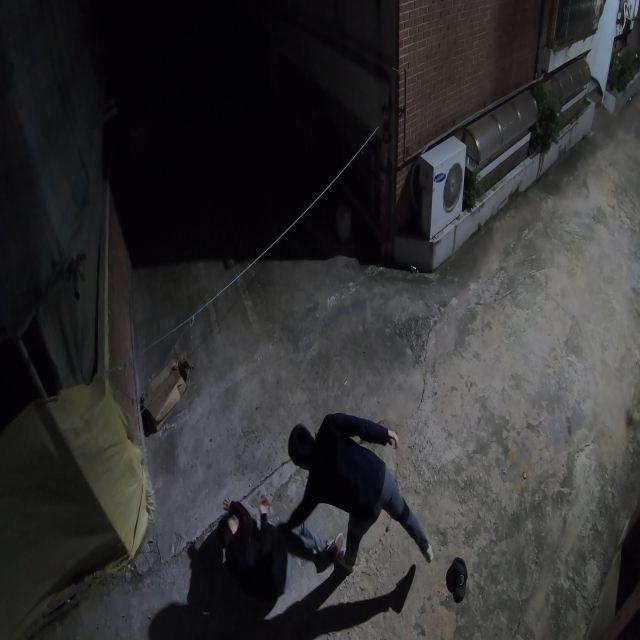fight: (173, 407, 436, 639)
